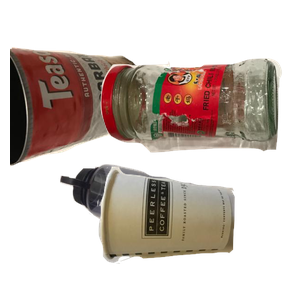glass: (98, 56, 300, 201)
metal: (10, 44, 151, 203)
plastic: (58, 162, 261, 300)
trash: (95, 164, 300, 300)
